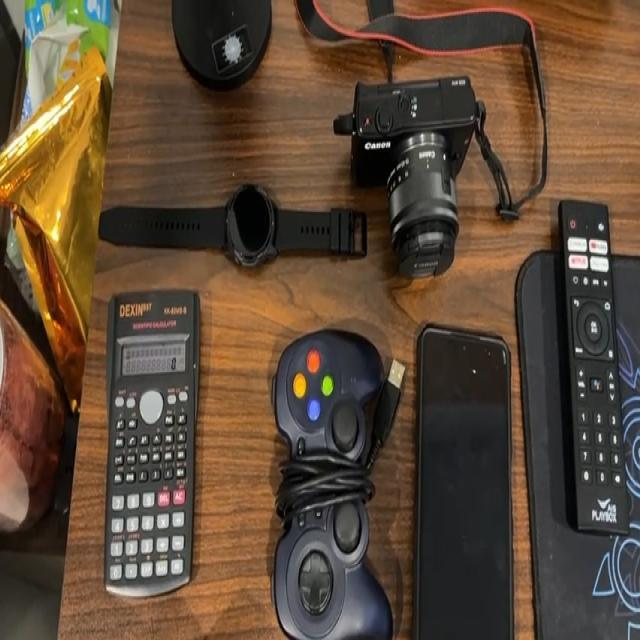calculator: (98, 300, 212, 614)
joy stick: (256, 316, 414, 636)
remote: (543, 190, 635, 556)
smart phone: (423, 320, 525, 640)
watch: (92, 194, 382, 278)
